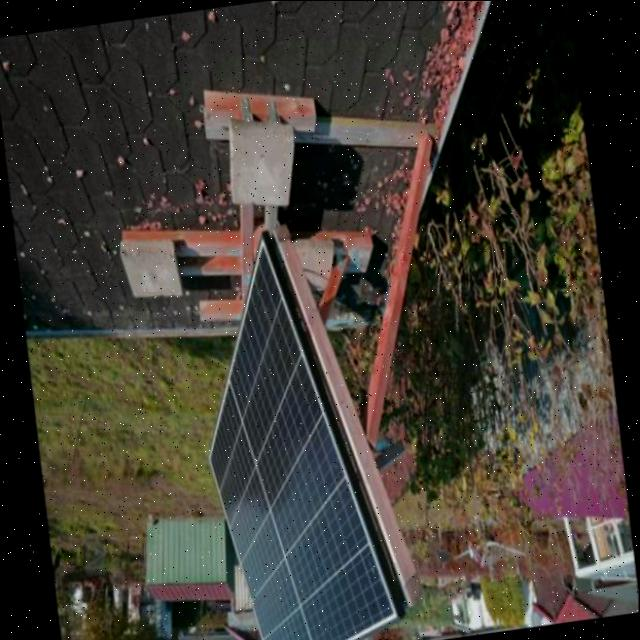Normal Solar Panel: (190, 231, 406, 640)
